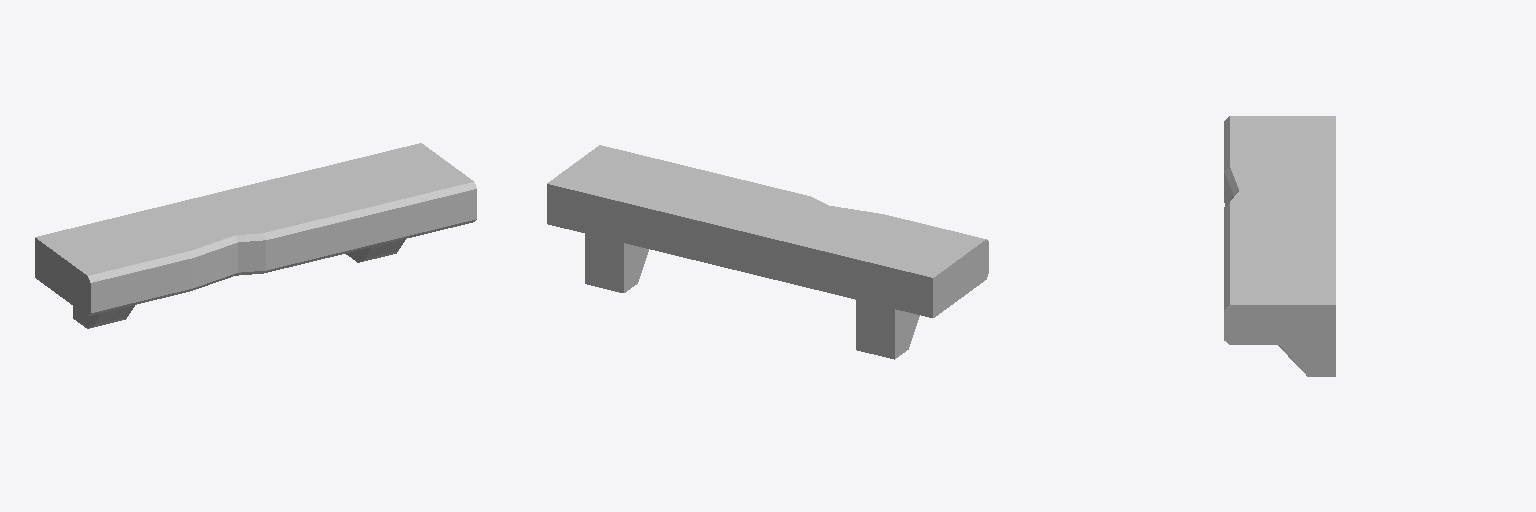
The model's file is shelf_large.obj.
The picture shows the model from 3 angles: view 1: azimuth 30°, elevation 25°; view 2: azimuth 150°, elevation 25°; view 3: azimuth 270°, elevation 25°; orthographic projection.
Visible parts, largest first — view 1: shelf_large; view 2: shelf_large; view 3: shelf_large.
Part boxes in pixels (bbox=[...]): shelf_large: bbox=[35, 143, 476, 328]; shelf_large: bbox=[547, 145, 988, 359]; shelf_large: bbox=[1224, 116, 1335, 376].
Size of the model in its own units: 2 by 0.45 by 0.5.